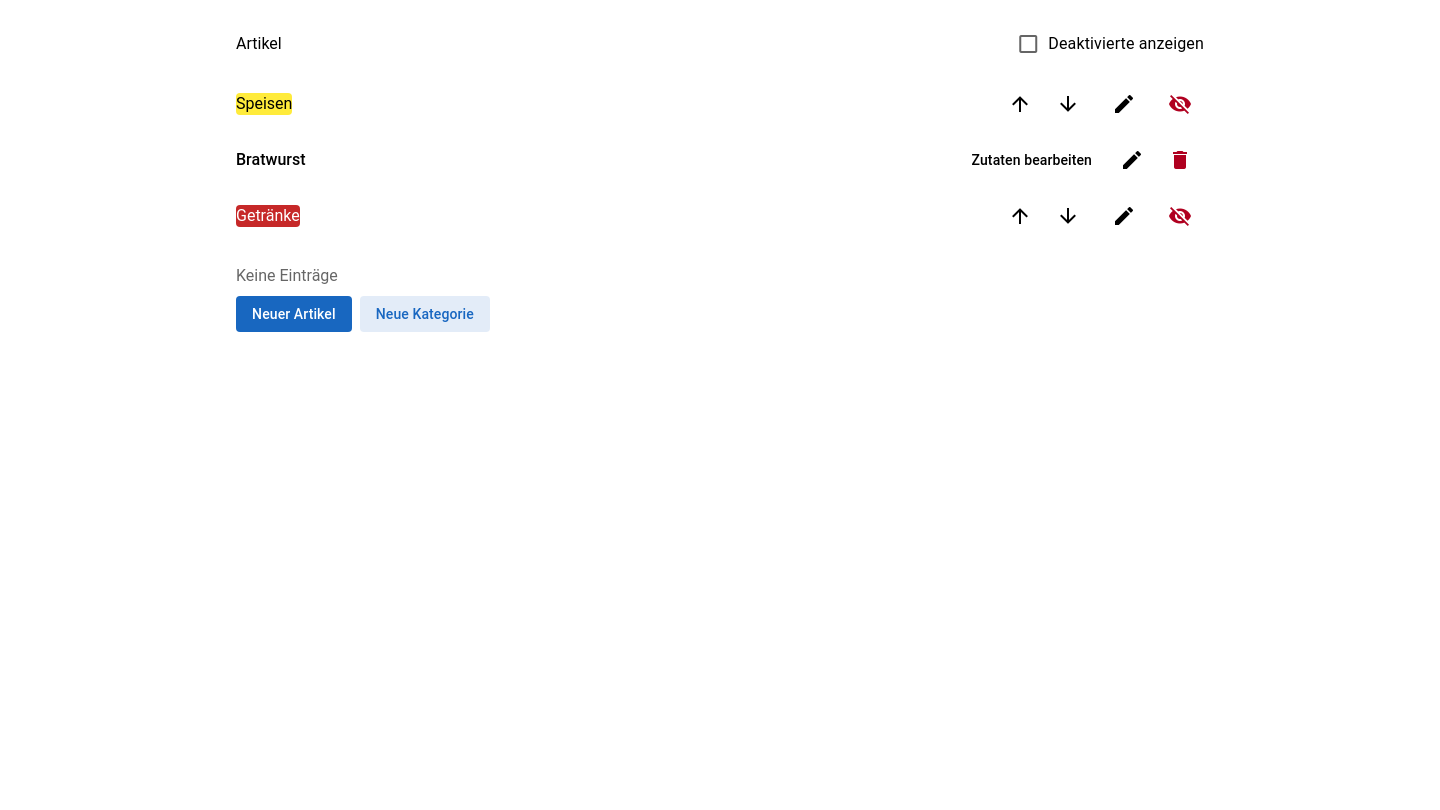
Scenario: adding an item › drops the refusal to switch a category off once the admin writes a new item
expect the element with test id "category-section" that starts with "Speisen" is shown: met, box [236,72,1204,184]
What coordinates should you click on to do the following:
click the 1st button with test id "deactivate-category"
I would click on:
 (1180, 104)
Its box is [1156,80,1204,128].
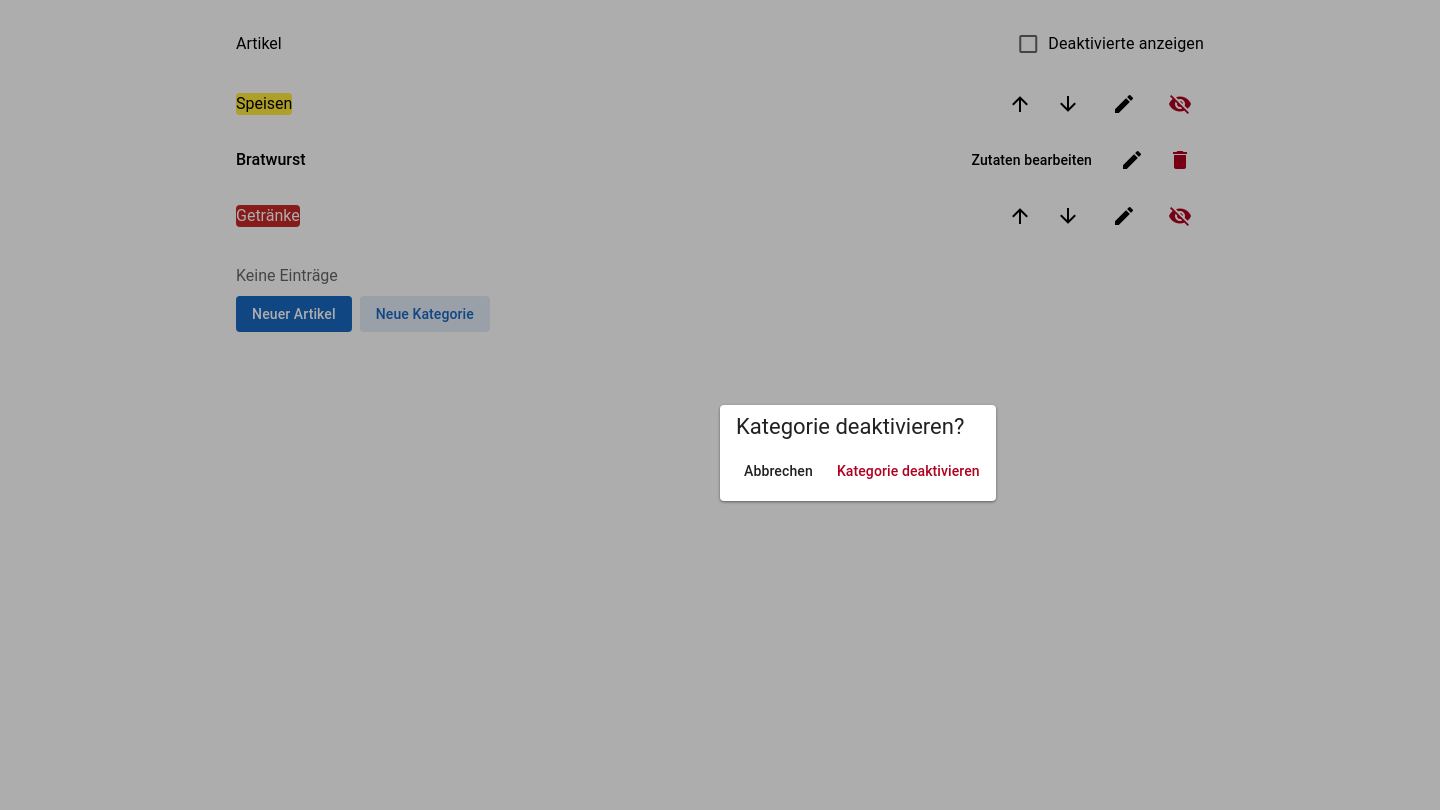
expect the element with test id "confirm-dialog" is shown: met, box [720,405,996,501]
What coordinates should you click on to do the following:
click the button with test id "confirm"
I would click on:
 (908, 471)
Its box is [829,453,988,489].
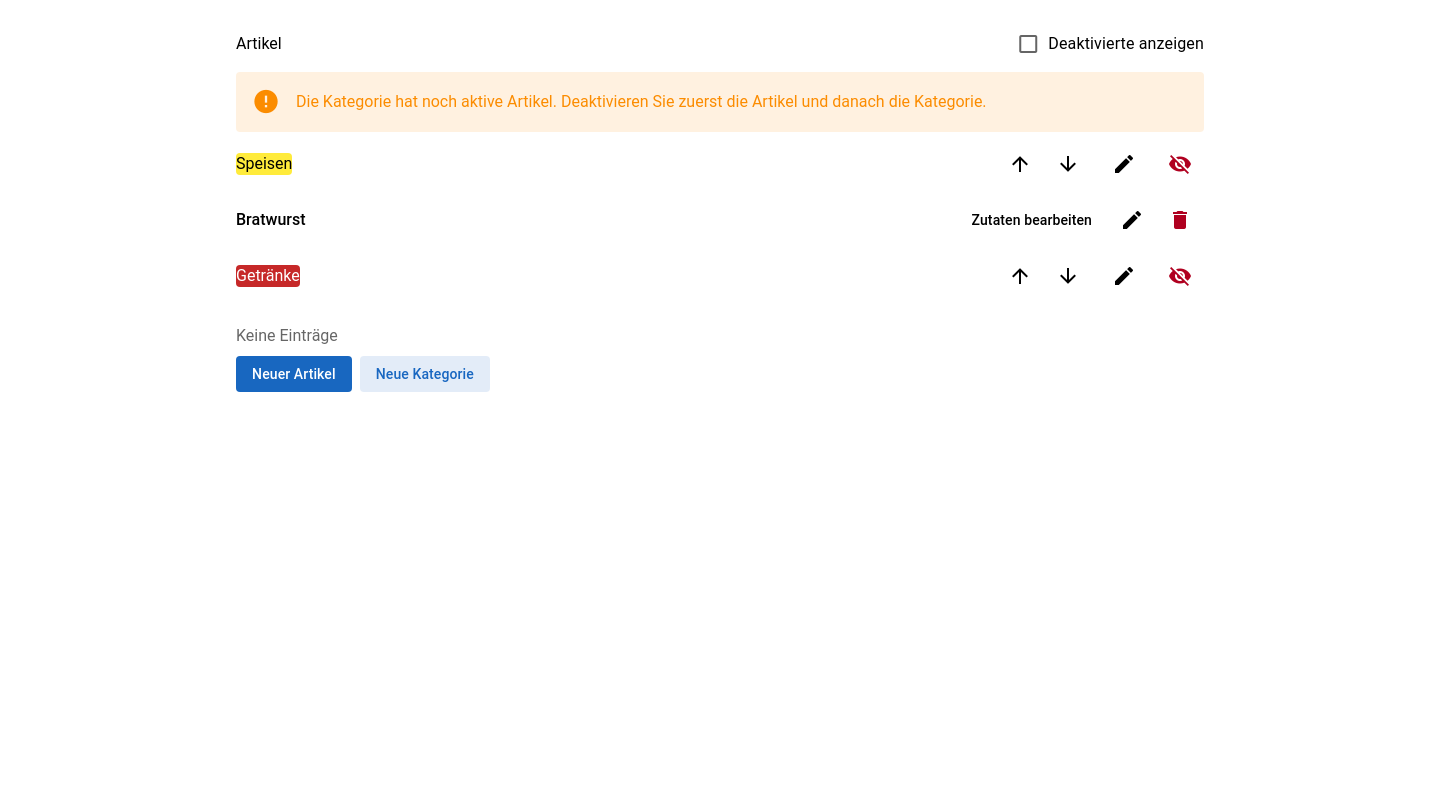
expect the element with test id "category-refusal" is shown: met, box [236,72,1204,132]
What coordinates should you click on to do the following:
click the button with test id "new-item"
I would click on:
 (294, 374)
Its box is [236,356,352,392].
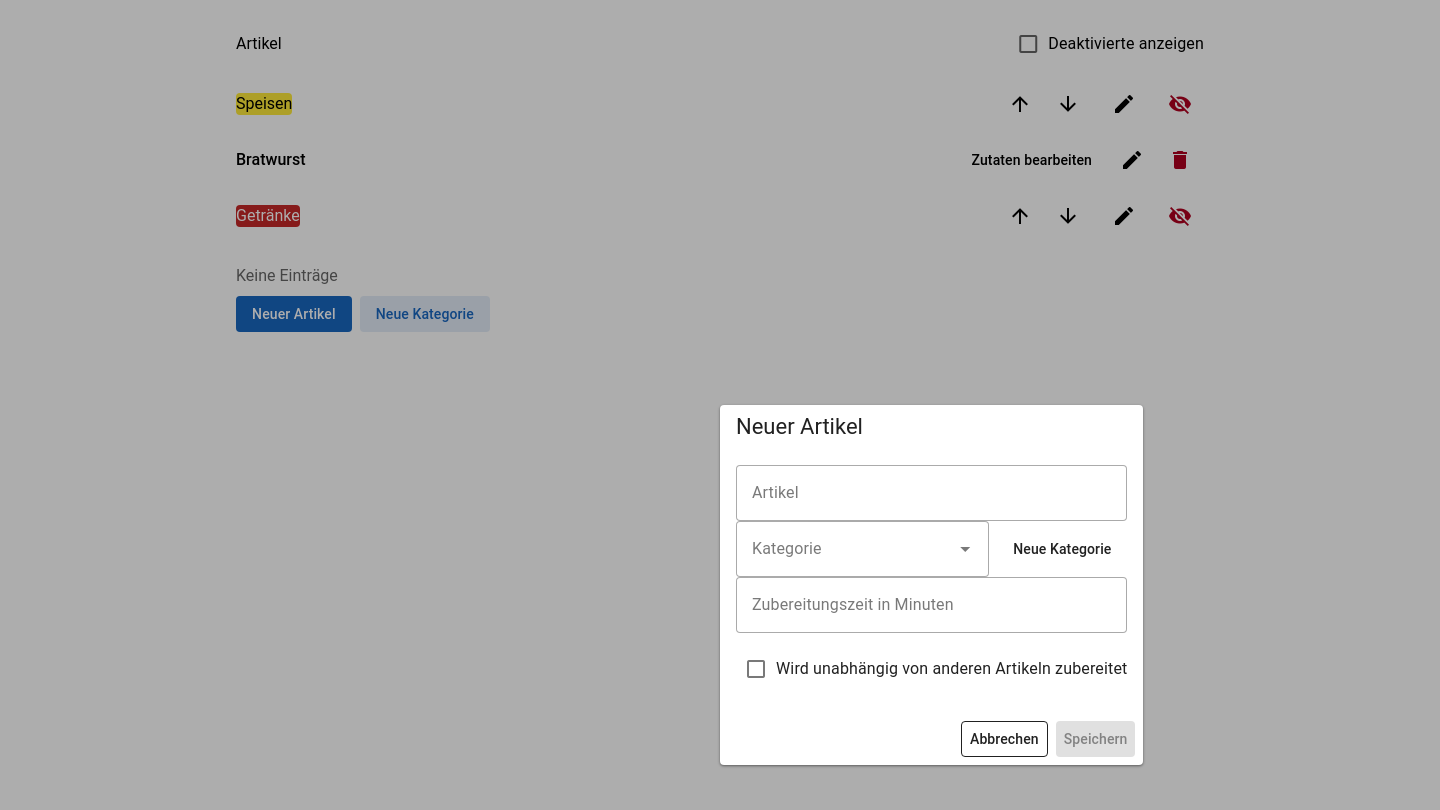
expect the element with test id "form-dialog" is shown: met, box [720,405,1143,765]
What coordinates should you click on to do the following:
click the button with test id "form-cancel"
I would click on:
 (1004, 739)
Its box is [961,721,1048,757].
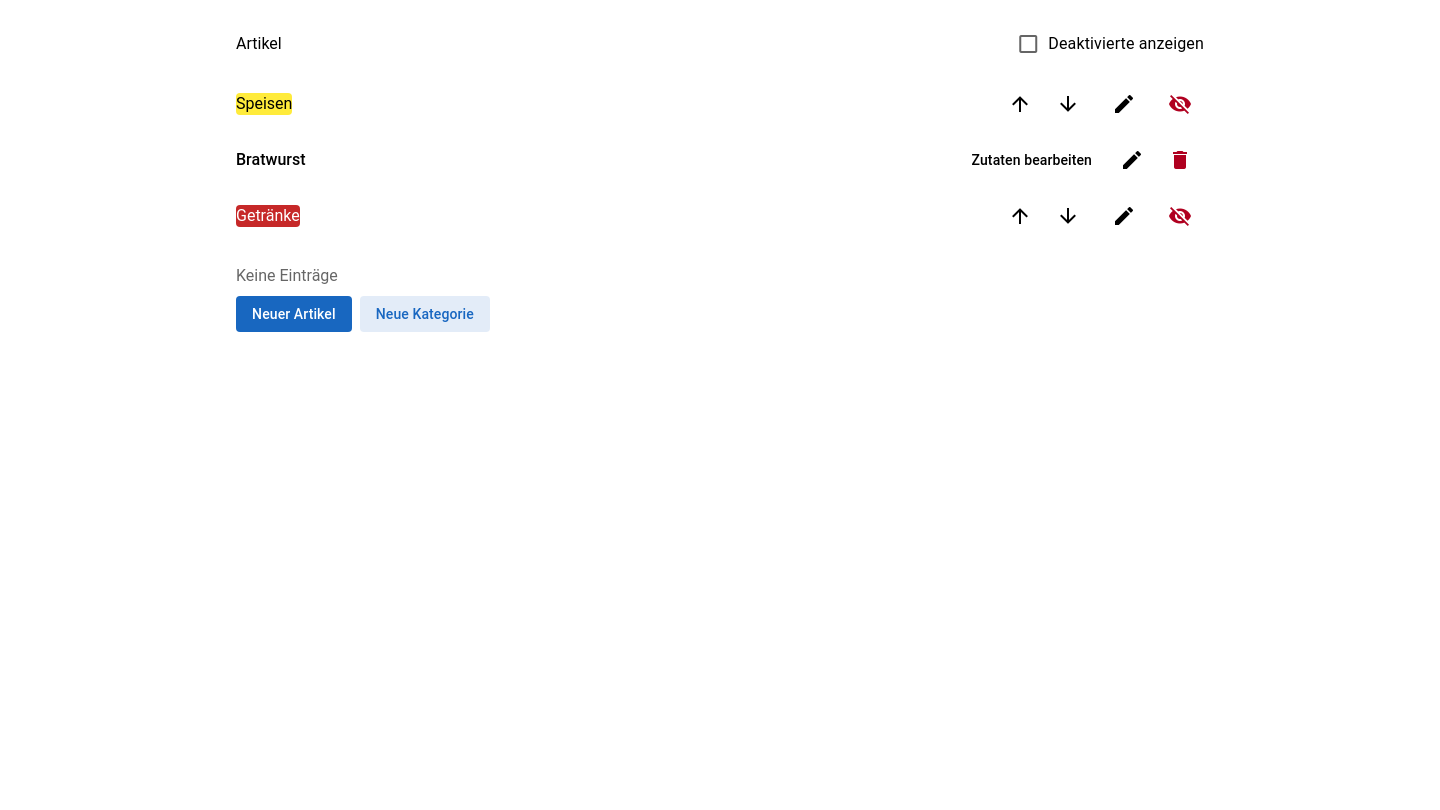
expect the element with test id "form-dialog" is gone: met
